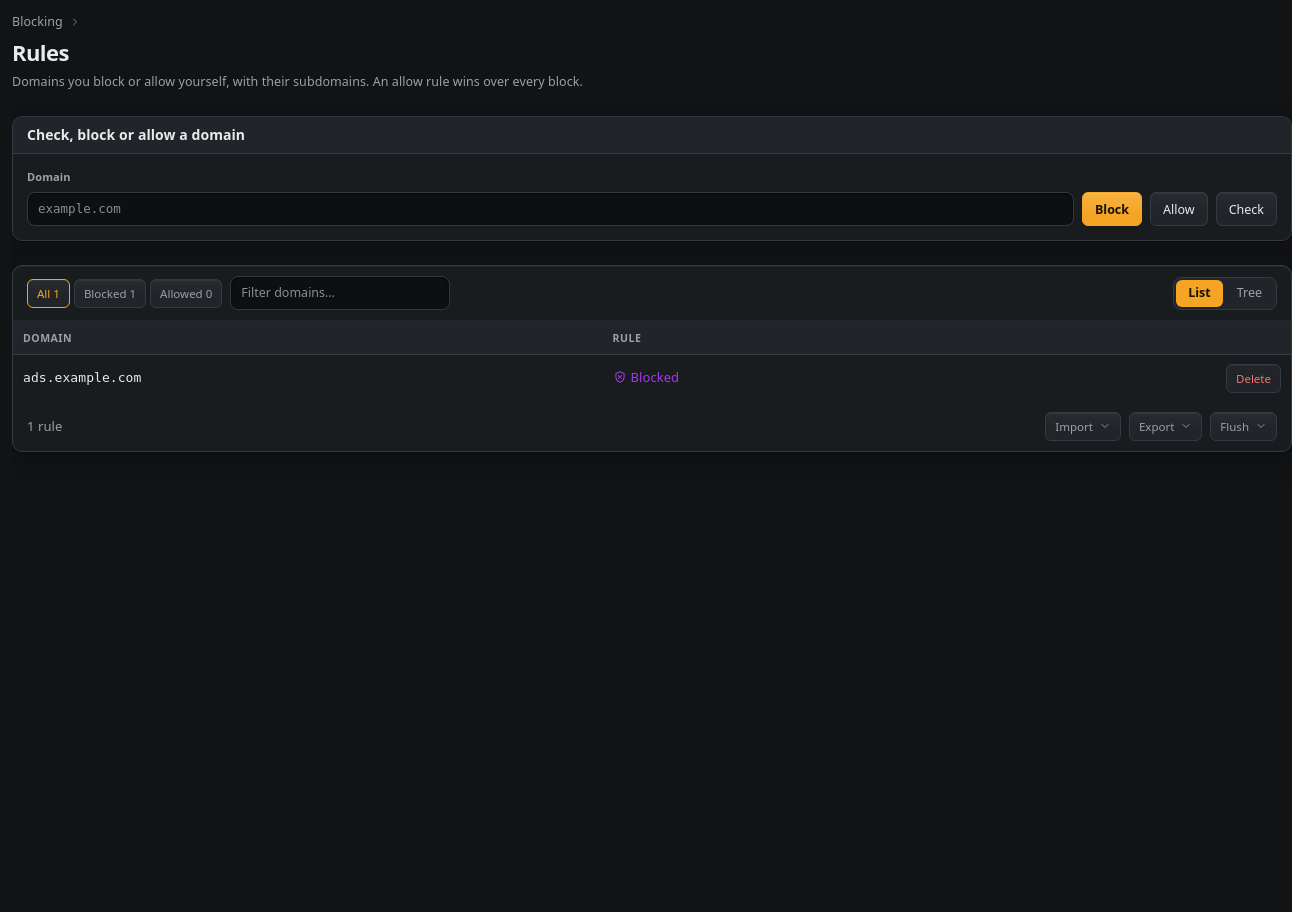
Test: Rules: Delete with Undo › deletes at once, with no dialog, and says so with upstream sentence
Click the button "Delete".
click(1254, 378)  # box [1226,364,1281,393]
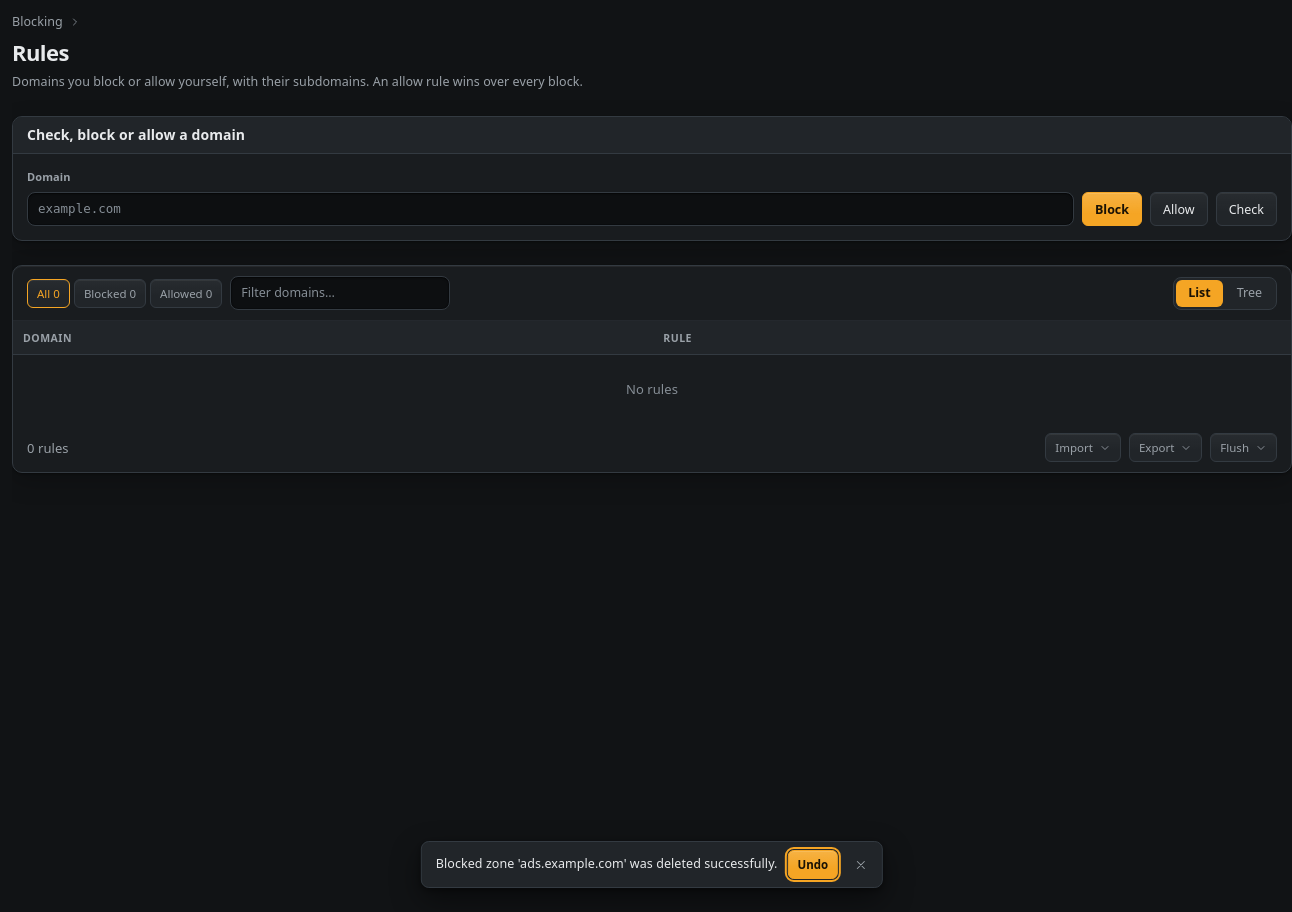
Expected: the message reads "Blocked zone 'ads.example.com' was deleted successfully.", [436,855,778,872]
Expected: the text "No rules" is shown, [13,354,1291,423]
